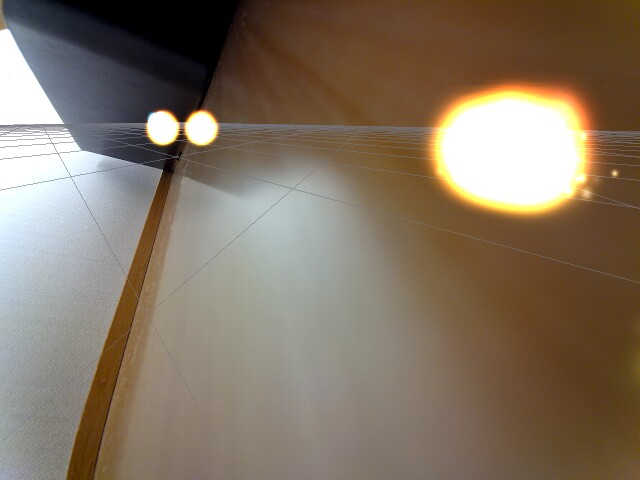firebig: (414, 73, 604, 225)
